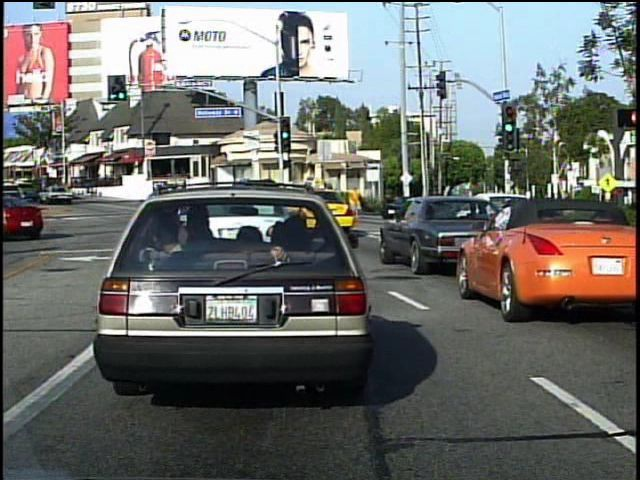person: (432, 185, 456, 229), (349, 183, 367, 220)
